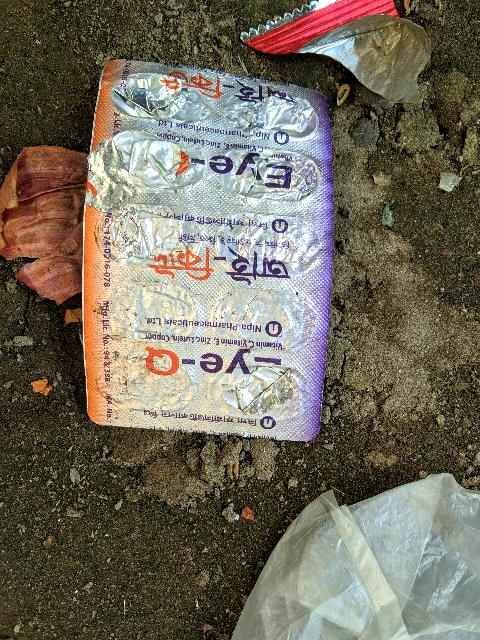medicine: (79, 43, 352, 449)
